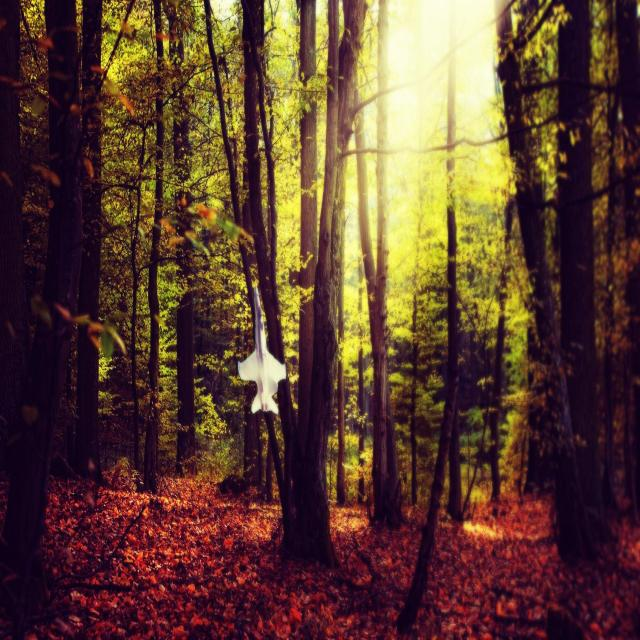airplane: (236, 286, 286, 416)
